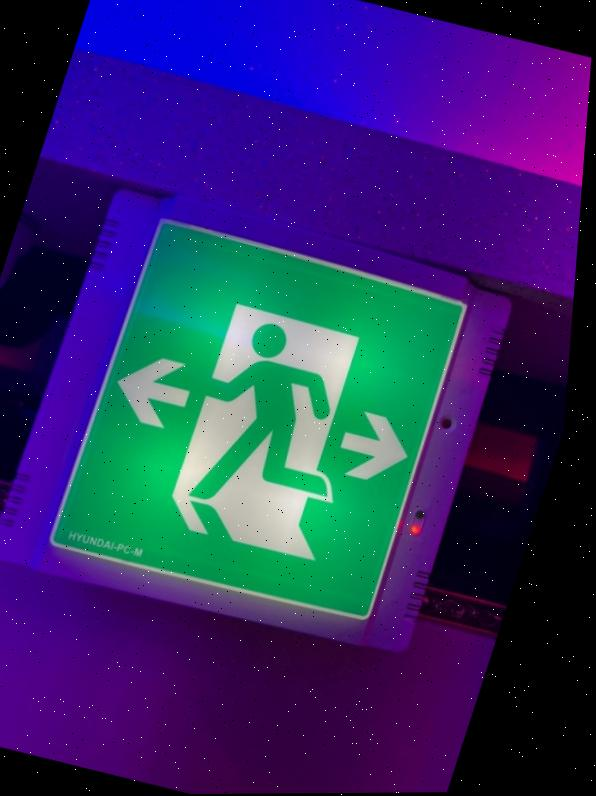emergency_exit: (46, 216, 488, 651)
